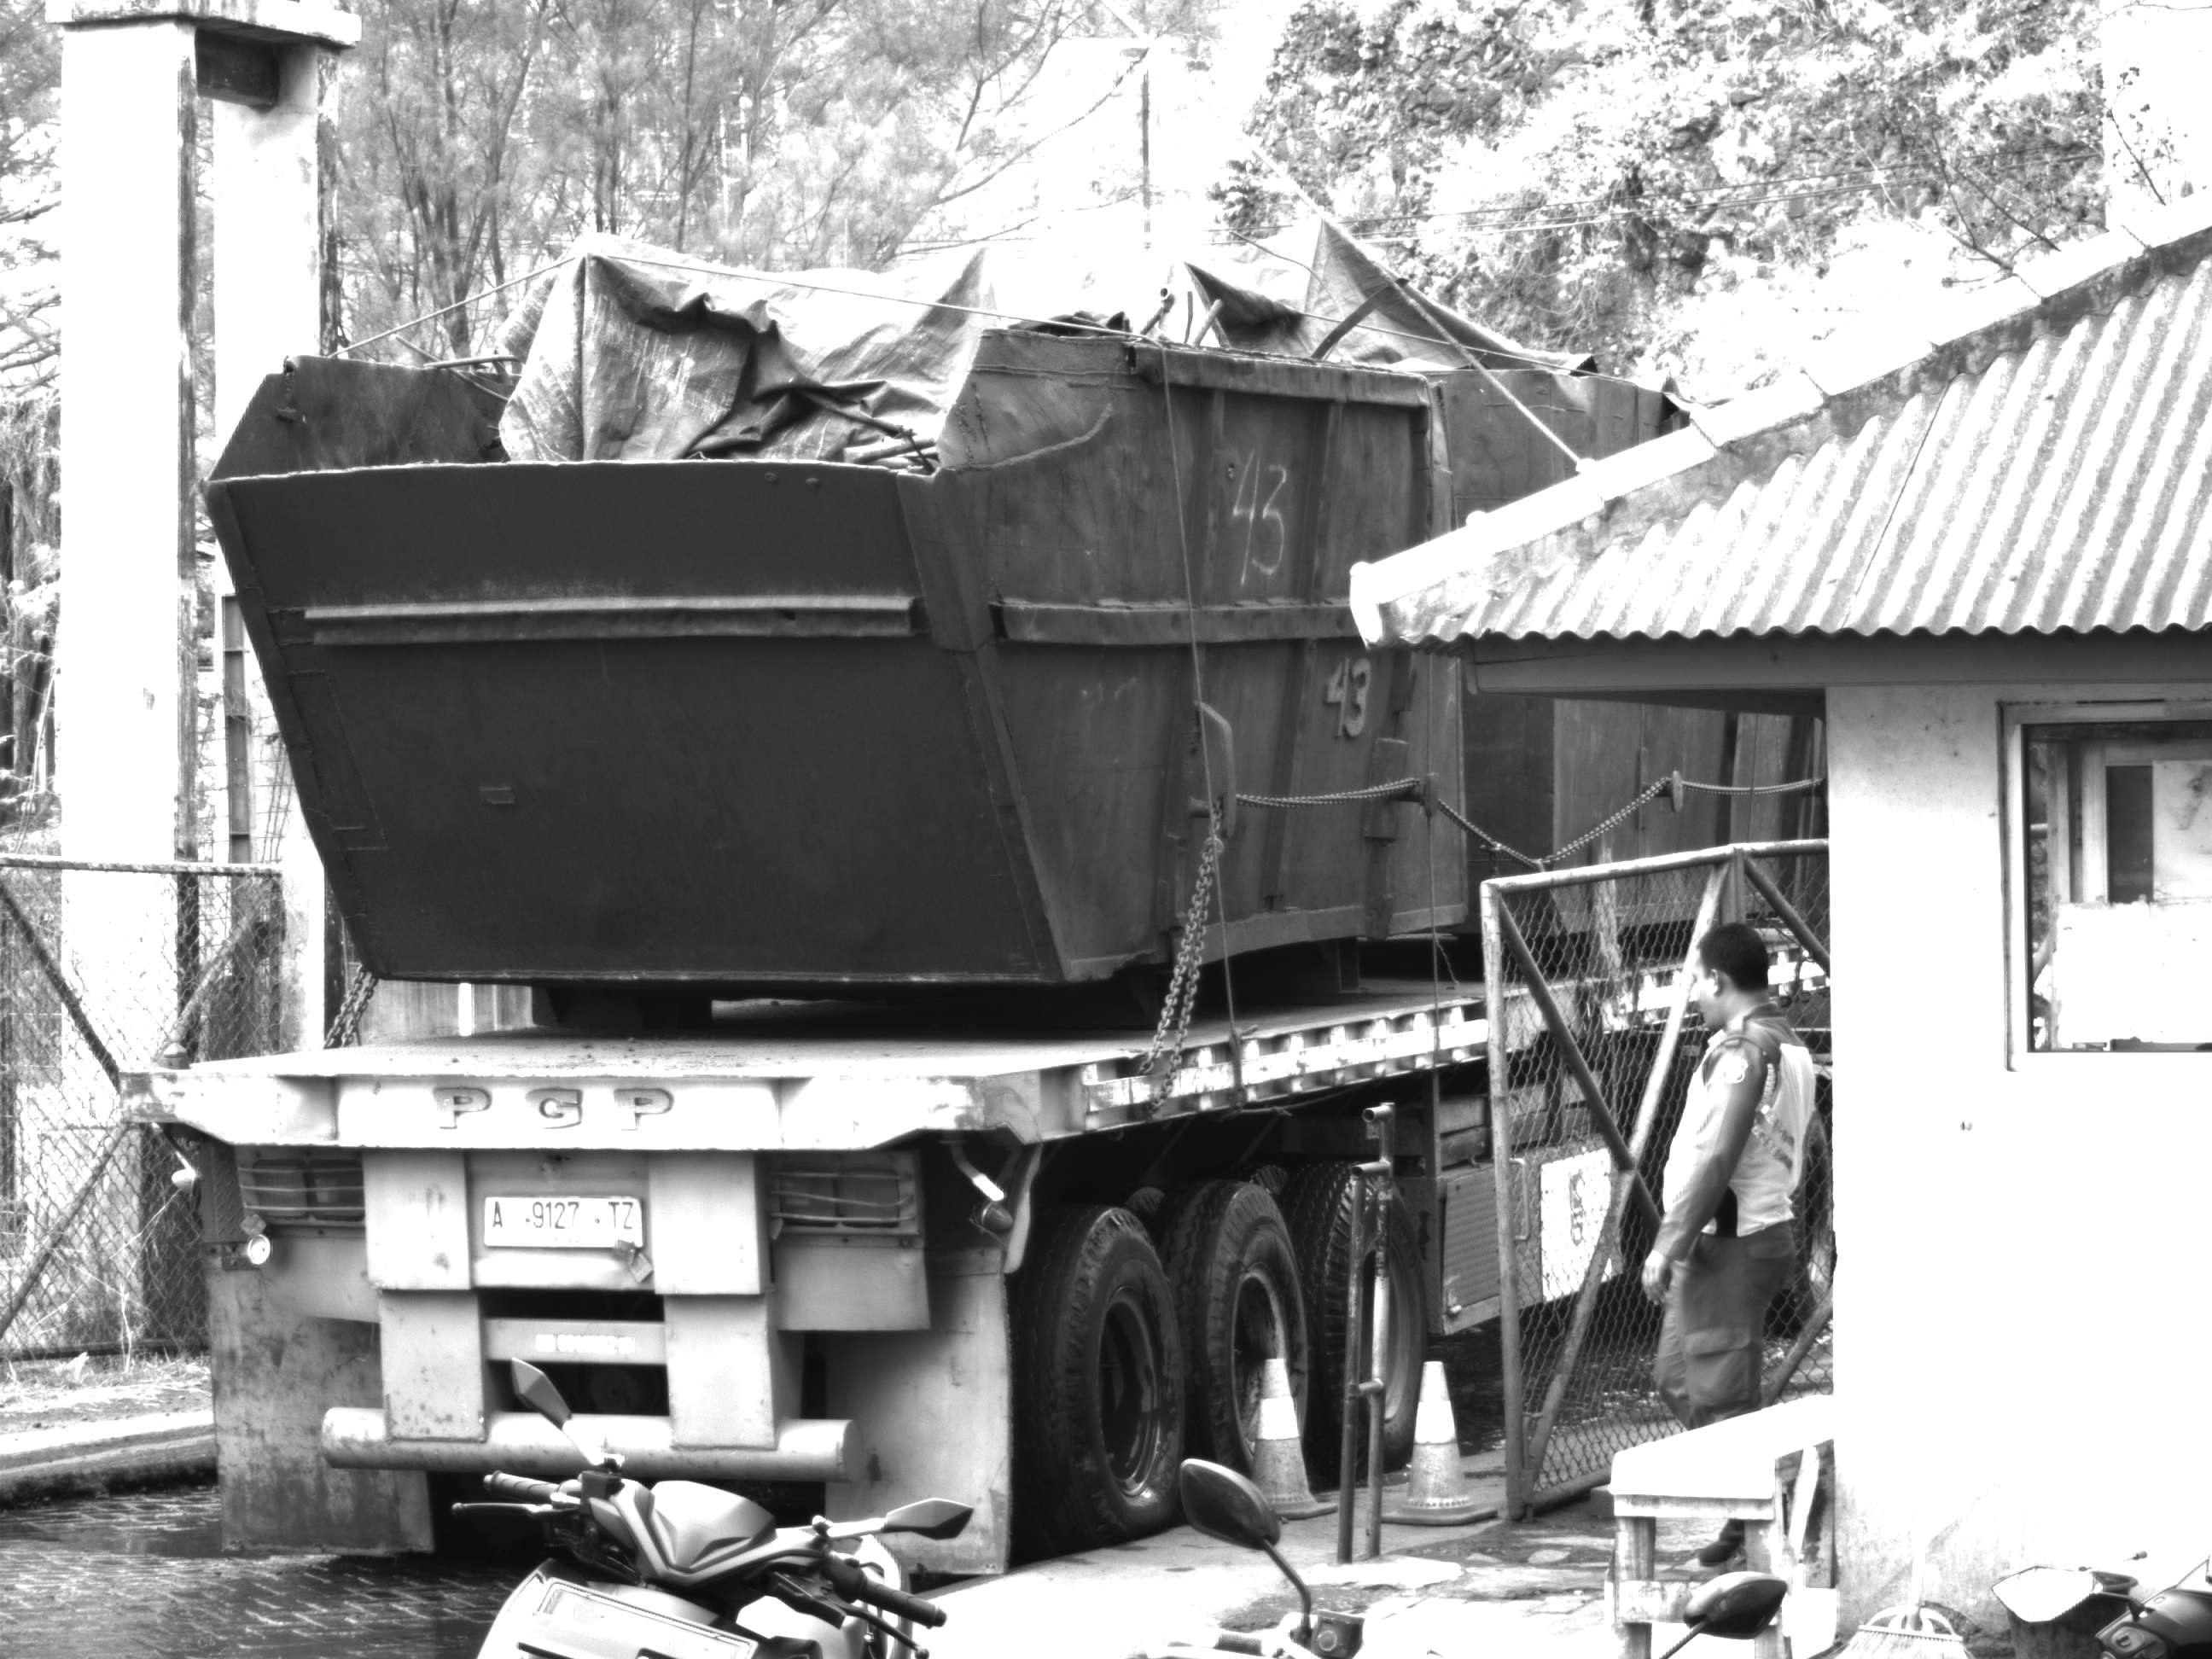day_truck_rear: (111, 965, 1204, 1584)
plate: (479, 1191, 644, 1247)
